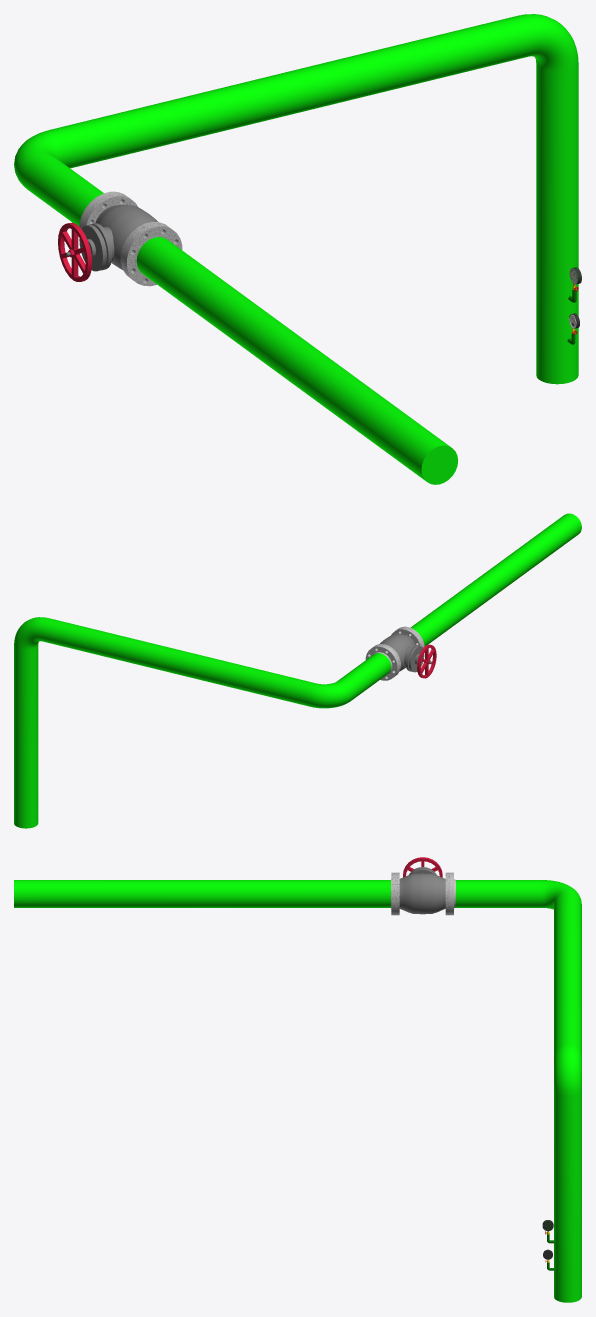
The model's file is PipeG.dae.
3 views of the same model, one above another, from view 1: azimuth 30°, elevation 25°; view 2: azimuth 150°, elevation 25°; view 3: azimuth 270°, elevation 25° (orthographic). The views are drawn at different scales.
Parts seen in each view (by area): view 1: SketchUp (×5), valve; view 2: SketchUp (×3); view 3: SketchUp (×2).
Part boxes in pixels (x1,y1,x2,y2): SketchUp (×5): (14, 14, 578, 484); valve: (58, 222, 92, 281); SketchUp (×3): (14, 513, 581, 828); SketchUp (×2): (14, 873, 581, 1302).
Bounding box in the file's own units: 199 × 239 × 116.
22 materials, 2 textured.
